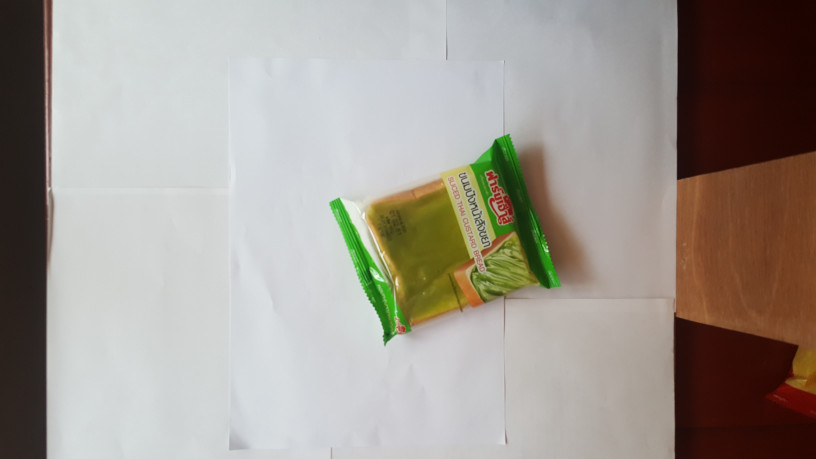farmhouse-bread-pandan: (333, 136, 560, 344)
